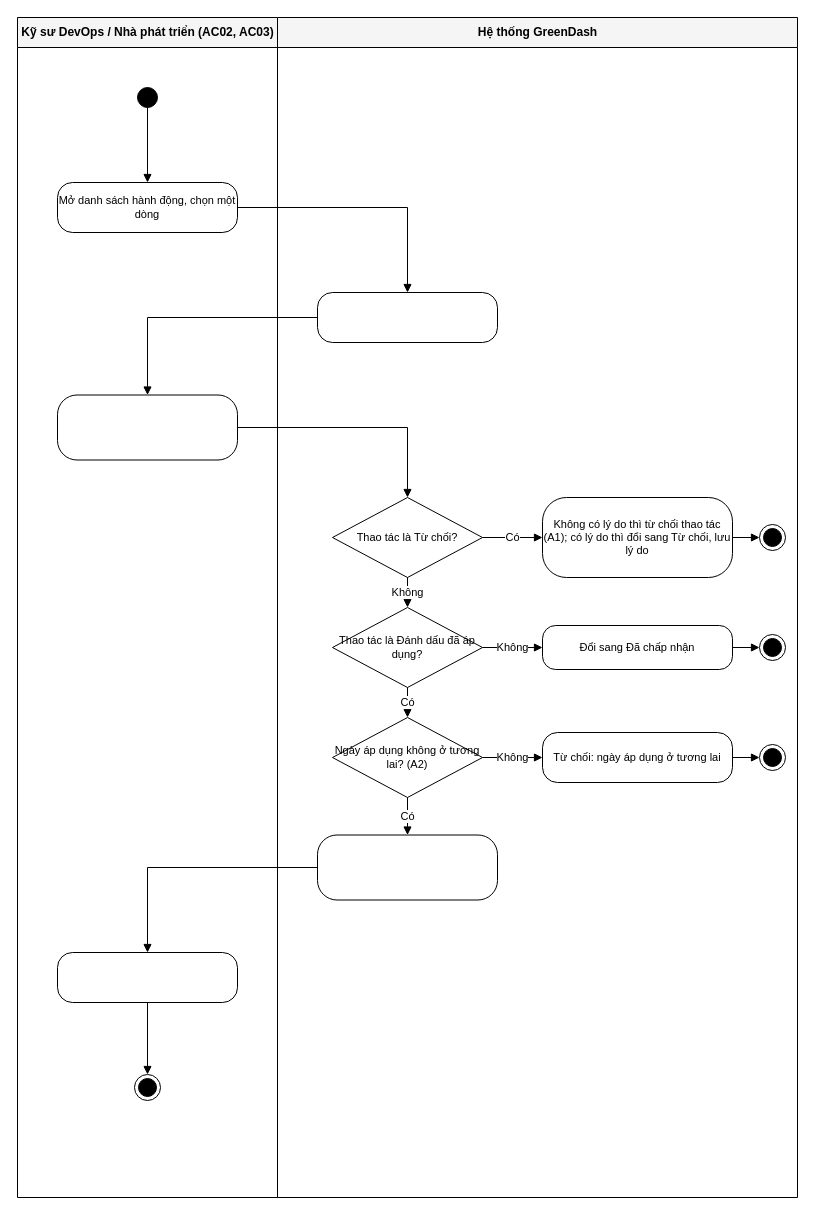
Some shapes in this 815 by 1215 pixel diagram are drawn without their labels. The shapes that lost their labels are listed below. From the top down, each one's centre as x and y in pixels, then its label:
At (x=407, y=317): "Hiển thị chi tiết và mức giảm ước tính".
At (x=147, y=427): "Chọn Chấp nhận, Từ chối (kèm lý do) hoặc Đánh dấu đã áp dụng (nhập ngày)".
At (x=407, y=867): "Đổi sang Đã áp dụng, lưu mốc ngày để chia kỳ trước và sau".
At (x=147, y=977): "Nhận thông báo thành công".
